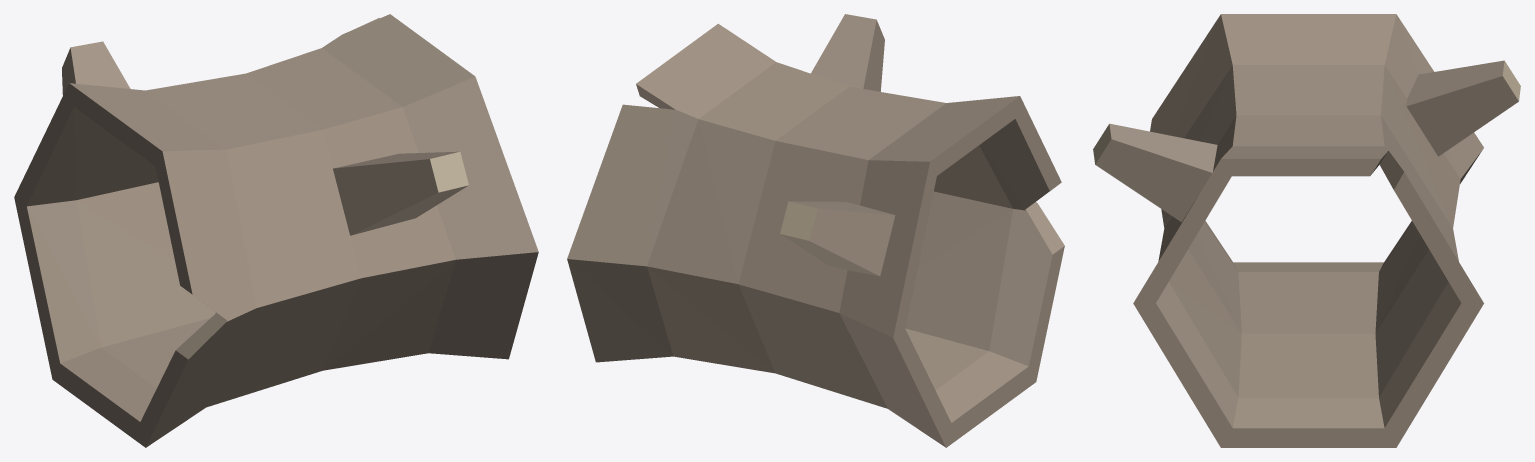
Rendered from Prop_Hollow_Trunk.glb.
3 renders of one model, left to right at view 1: azimuth 30°, elevation 25°; view 2: azimuth 150°, elevation 25°; view 3: azimuth 270°, elevation 25°, orthographic. The views are drawn at different scales.
Visible parts, largest first — view 1: Prop_Hollow_Trunk_Merged; view 2: Prop_Hollow_Trunk_Merged; view 3: Prop_Hollow_Trunk_Merged.
Part boxes in pixels (<box>): Prop_Hollow_Trunk_Merged: <box>14,14,538,447</box>; Prop_Hollow_Trunk_Merged: <box>567,14,1064,447</box>; Prop_Hollow_Trunk_Merged: <box>1093,14,1520,447</box>.
Bounding box in the file's own units: 0.9199 × 0.7081 × 0.9982.
